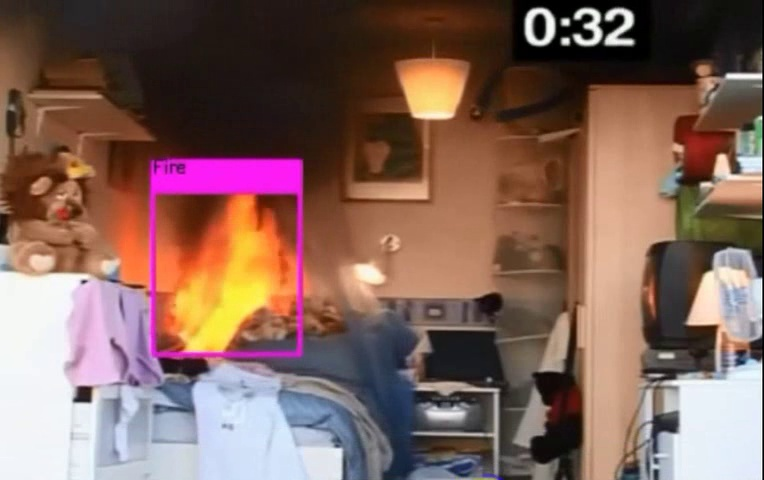fire: (162, 189, 285, 353)
